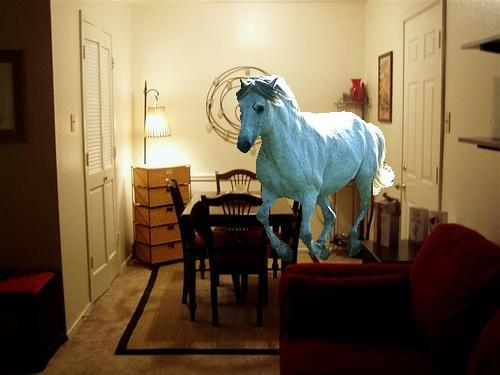tampered: (237, 76, 395, 261)
